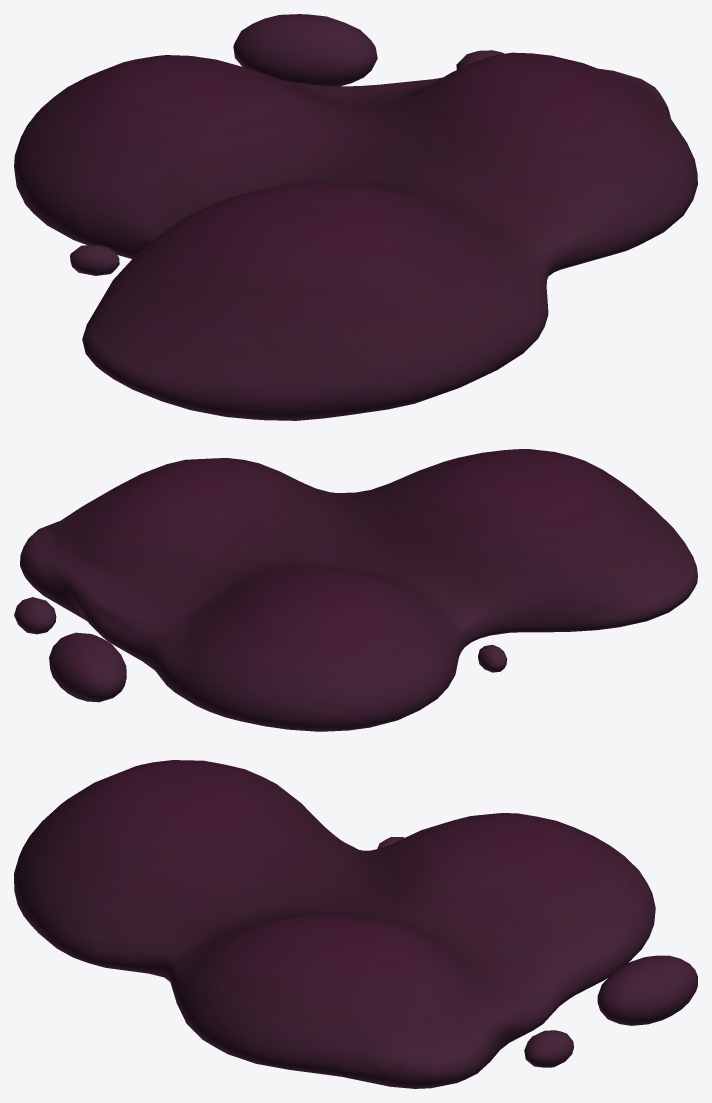
Rendered from bog_puddle_a.glb.
3 views of the same model, one above another, from view 1: azimuth 30°, elevation 25°; view 2: azimuth 150°, elevation 25°; view 3: azimuth 270°, elevation 25° (orthographic). The views are drawn at different scales.
Parts seen in each view (by area): view 1: SM_XBOG_DRS_PoisonPuddle_01A; view 2: SM_XBOG_DRS_PoisonPuddle_01A; view 3: SM_XBOG_DRS_PoisonPuddle_01A.
Boxes of the visible parts, box(x1,y1,x2,y2) form: SM_XBOG_DRS_PoisonPuddle_01A: box(14, 14, 697, 420); SM_XBOG_DRS_PoisonPuddle_01A: box(14, 449, 697, 731); SM_XBOG_DRS_PoisonPuddle_01A: box(14, 760, 697, 1088).
Bounding box in the file's own units: 3.61 × 0.7458 × 3.65.
1 material, 1 textured.
